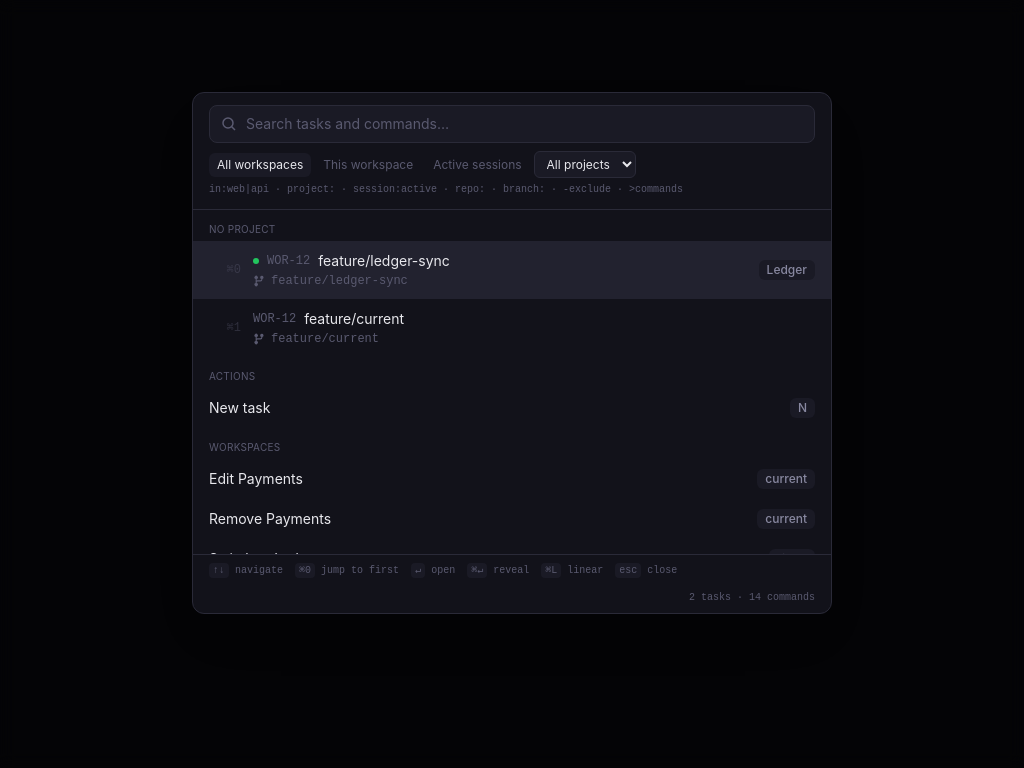
QuickSearchModal ordering › filters to active sessions from the filter tab
The width and height of the screenshot is (1024, 768).
Click the button "Active sessions".
click(477, 165)  # box x1=425 y1=153 x2=530 y2=177
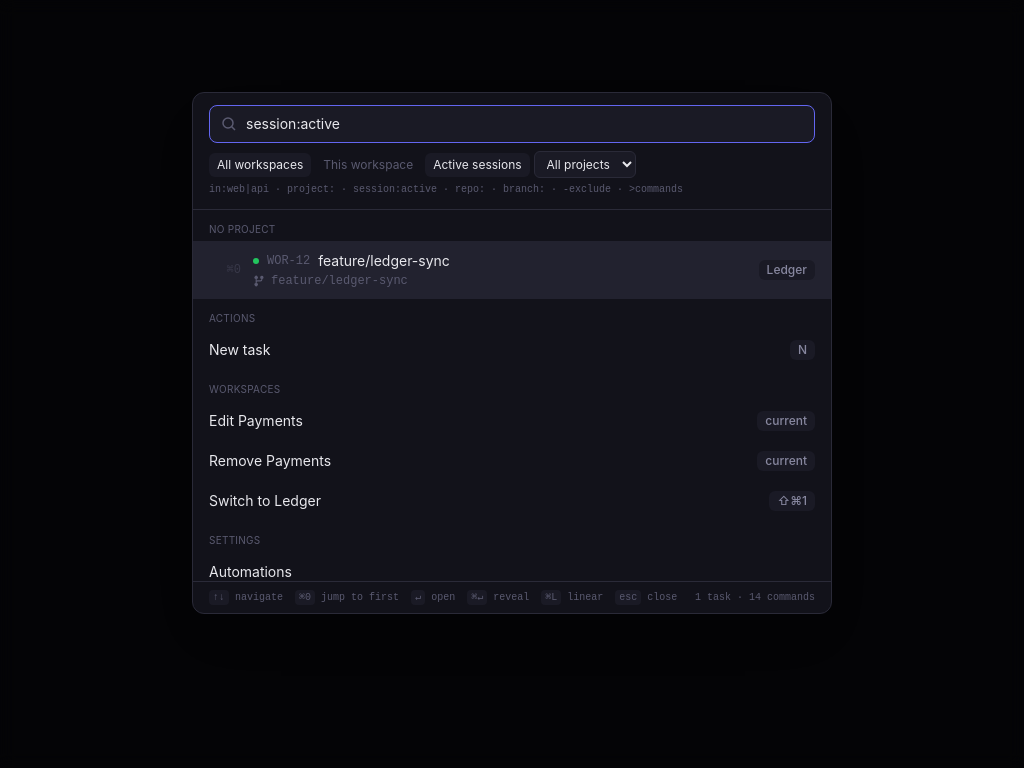
Expected: the button "⌘0 WOR-12 feature/ledger-sync feature/ledger-sync Ledger" is shown, x1=193 y1=241 x2=831 y2=299
Expected: the field holds "session:active ", x1=209 y1=105 x2=815 y2=143
Expected: the button "feature/current" is gone
